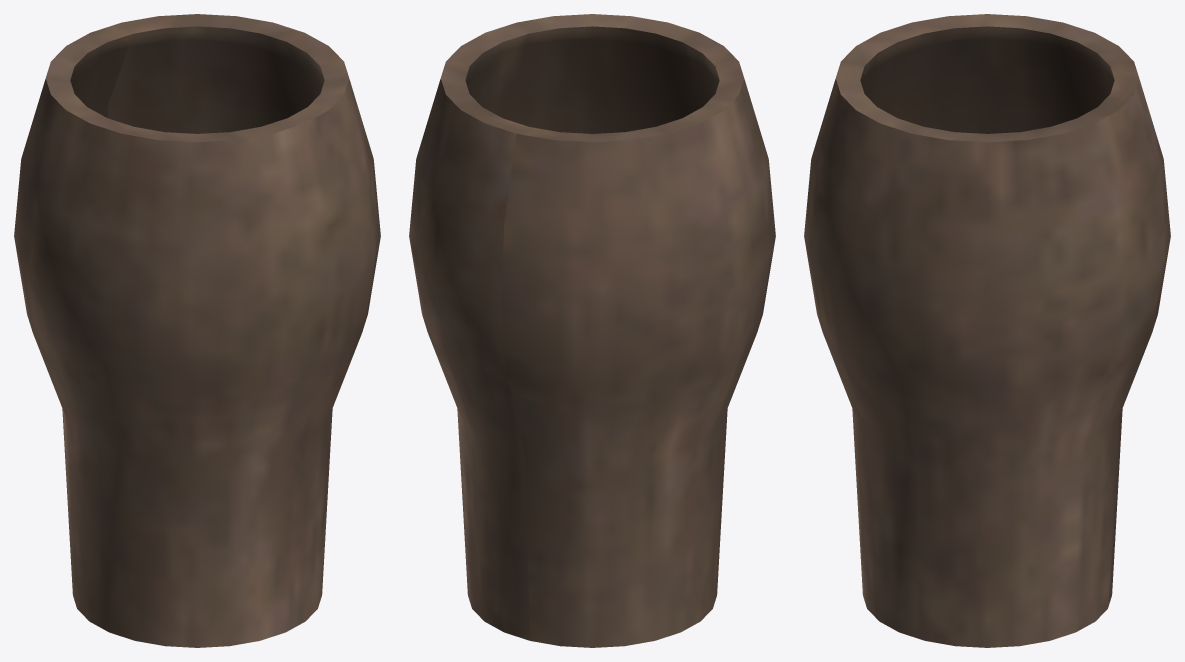
File: SM_Wooden_cup_1.FBX
3 renders of one model, left to right at view 1: azimuth 30°, elevation 25°; view 2: azimuth 150°, elevation 25°; view 3: azimuth 270°, elevation 25°, orthographic.
Visible parts, largest first — view 1: SM_Wooden_cup_1; view 2: SM_Wooden_cup_1; view 3: SM_Wooden_cup_1.
Boxes of the visible parts, box(x1,y1,x2,y2) form: SM_Wooden_cup_1: box(14, 14, 380, 647); SM_Wooden_cup_1: box(409, 14, 775, 647); SM_Wooden_cup_1: box(804, 14, 1170, 647).
Size of the model in its own units: 9 by 14 by 9.
